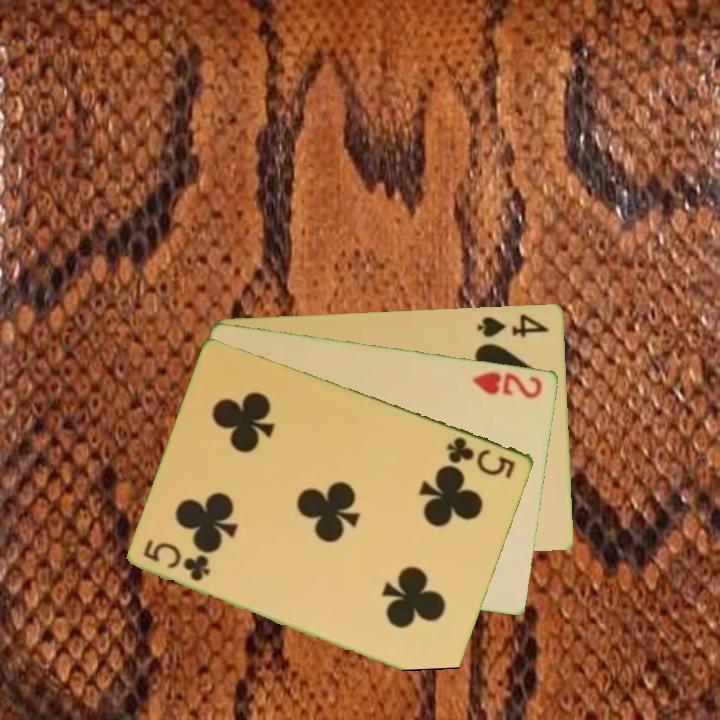2h: (469, 368, 546, 401)
4s: (474, 310, 552, 340)
5c: (443, 433, 519, 481), (140, 537, 214, 584)
